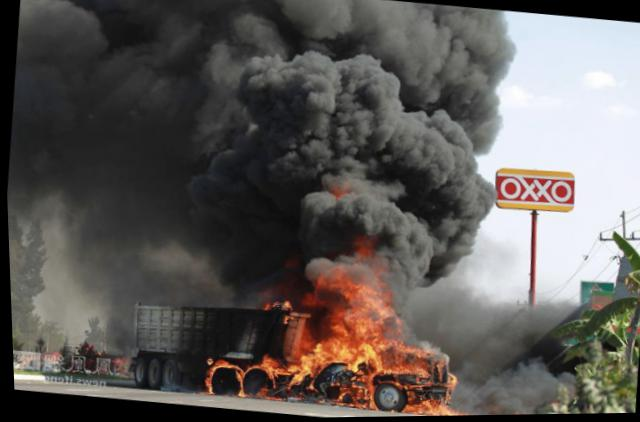fire: (340, 287, 386, 367), (310, 335, 345, 367), (379, 358, 426, 378), (377, 340, 429, 356), (401, 401, 450, 416), (285, 355, 314, 377), (329, 307, 348, 335), (258, 359, 284, 376), (443, 374, 458, 391), (203, 369, 212, 394), (216, 358, 230, 368), (446, 412, 477, 416), (290, 376, 301, 386)
